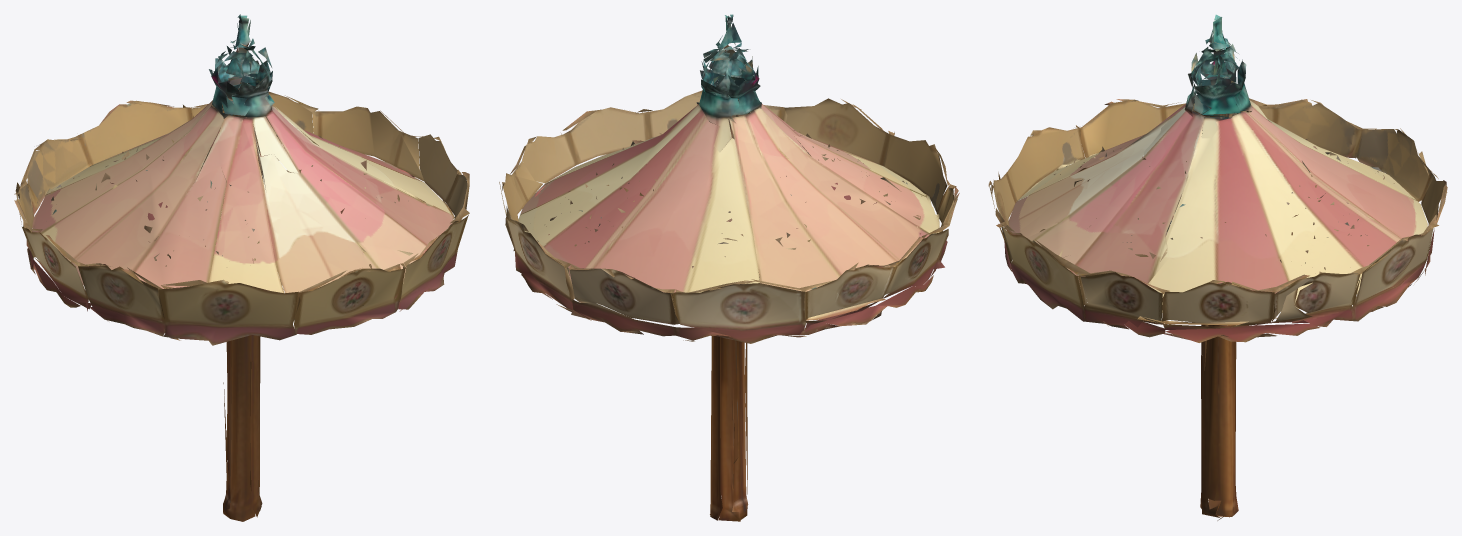
The model's file is unified--detail--carousel-roof.glb.
3 renders of one model, left to right at view 1: azimuth 30°, elevation 25°; view 2: azimuth 150°, elevation 25°; view 3: azimuth 270°, elevation 25°, orthographic.
Parts seen in each view (by area): view 1: carousel-roof-0; view 2: carousel-roof-0; view 3: carousel-roof-0.
Boxes of the visible parts, x1,y1,x2,y2 form: carousel-roof-0: (14,14,469,521); carousel-roof-0: (499,14,959,521); carousel-roof-0: (988,14,1447,520).
Bounding box in the file's own units: 3.01 × 3.63 × 3.03.
1 material, 1 textured.
